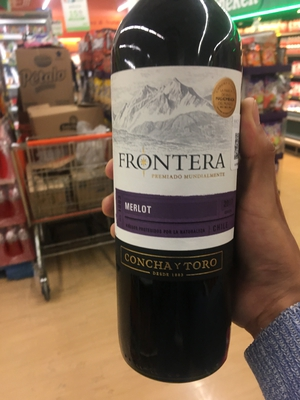frontera merlot: (101, 18, 264, 388)
